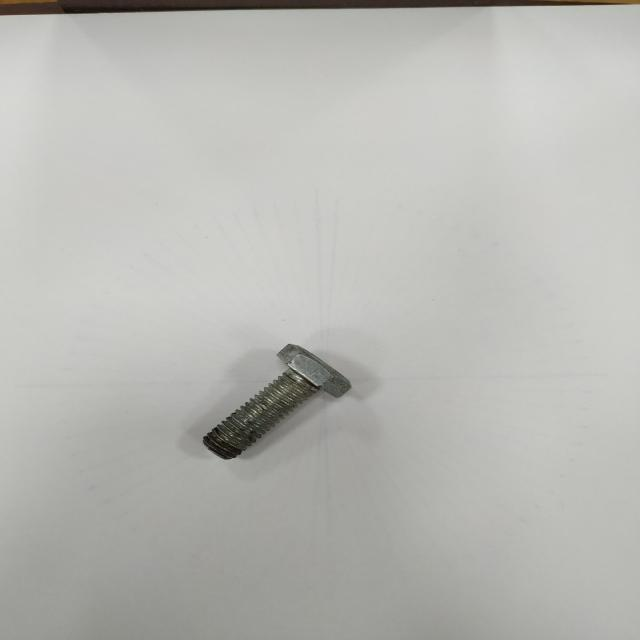Bolt: (203, 345, 350, 459)
